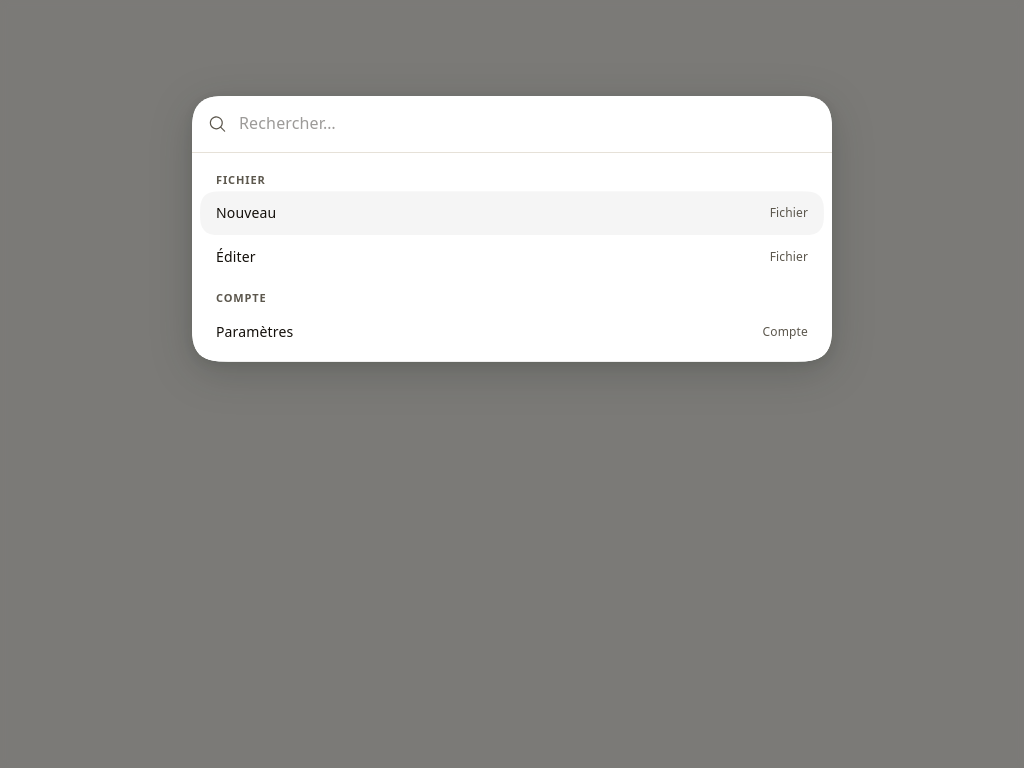
Test: CommandPalette › filtre sur un mot-clé
Type "config" into the dropdown labelled "Rechercher…" at (528,124), box left=239, top=108, right=816, bottom=140
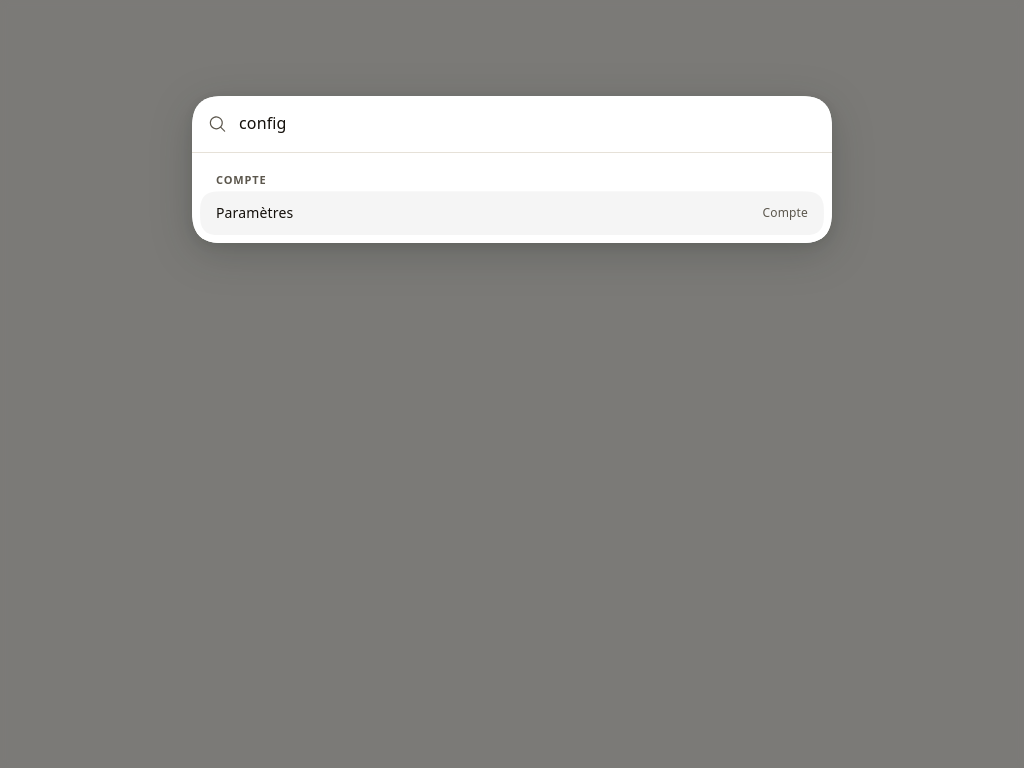
Expected: the option shows "Paramètres", left=216, top=203, right=808, bottom=222
Now the number of options is 1, box left=216, top=203, right=808, bottom=222
